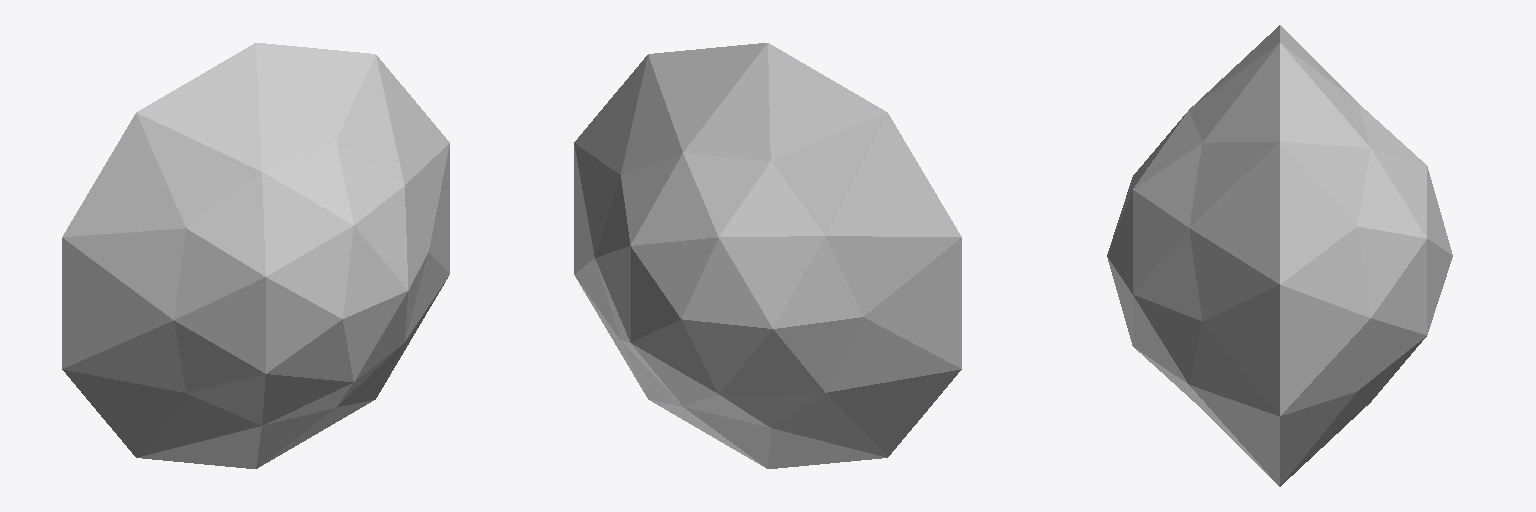
The model's file is planet.obj.
The picture shows the model from 3 angles: view 1: azimuth 30°, elevation 25°; view 2: azimuth 150°, elevation 25°; view 3: azimuth 270°, elevation 25°; orthographic projection.
Parts seen in each view (by area): view 1: Icosphere.001; view 2: Icosphere.001; view 3: Icosphere.001.
Part boxes in pixels (left/top/right/bottom): Icosphere.001: left=62, top=43, right=449, bottom=468; Icosphere.001: left=574, top=43, right=961, bottom=468; Icosphere.001: left=1107, top=25, right=1452, bottom=486.
Bounding box in the file's own units: 2.59 × 2.72 × 2.